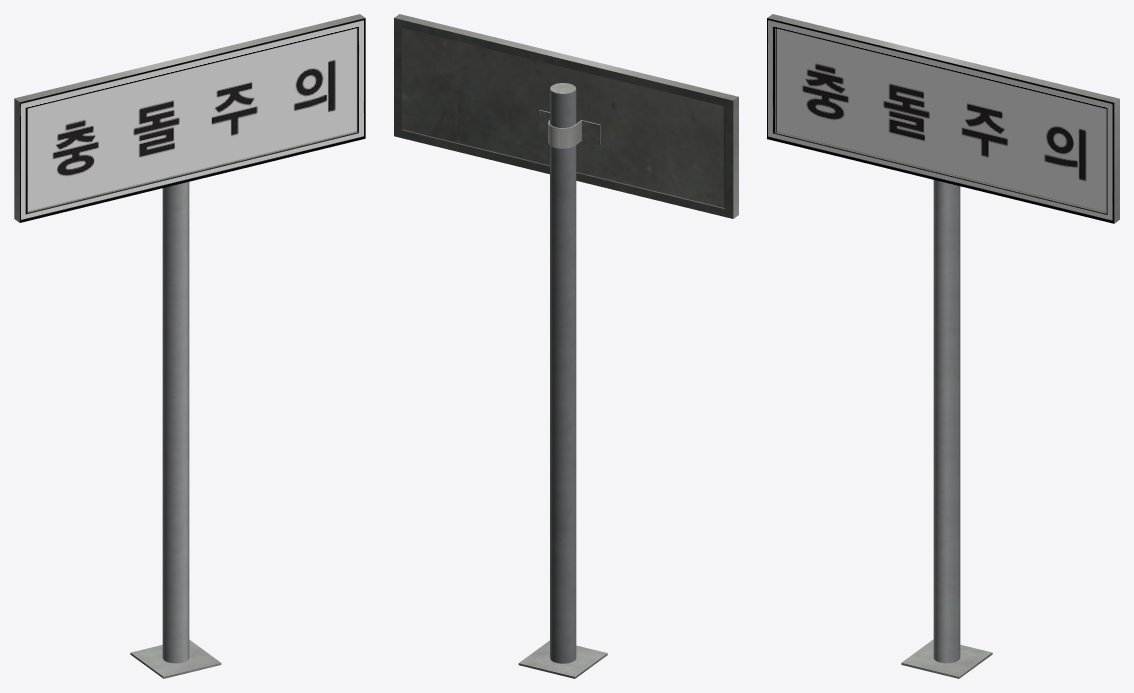
3 renders of one model, left to right at view 1: azimuth 30°, elevation 25°; view 2: azimuth 150°, elevation 25°; view 3: azimuth 330°, elevation 25°, orthographic. The views are drawn at different scales.
Visible parts, largest first — view 1: MainBuilding; view 2: MainBuilding; view 3: MainBuilding.
Part boxes in pixels (box(x1,y1,x2,y2)): MainBuilding: box(14, 14, 365, 678); MainBuilding: box(394, 14, 738, 678); MainBuilding: box(767, 14, 1119, 678).
Size of the model in its own units: 0.9 by 1.51 by 0.15.
Materials: 1 (1 with a texture image).
